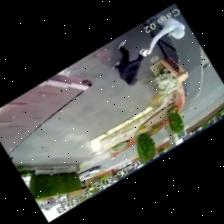person: (146, 14, 184, 53), (111, 40, 143, 85)
